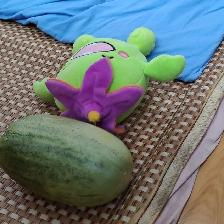gua: (18, 123, 125, 195)
